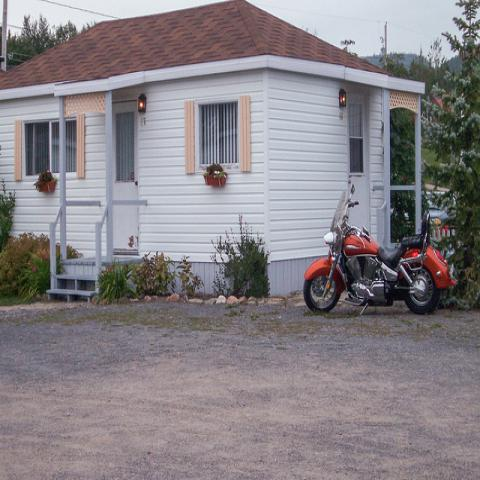car: (424, 190, 458, 227)
motorcycle: (303, 182, 457, 316)
